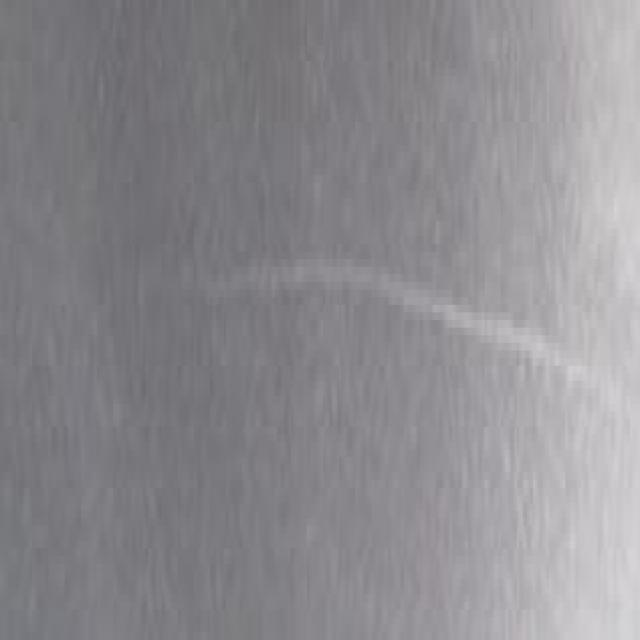scratch: (206, 210, 610, 468)
